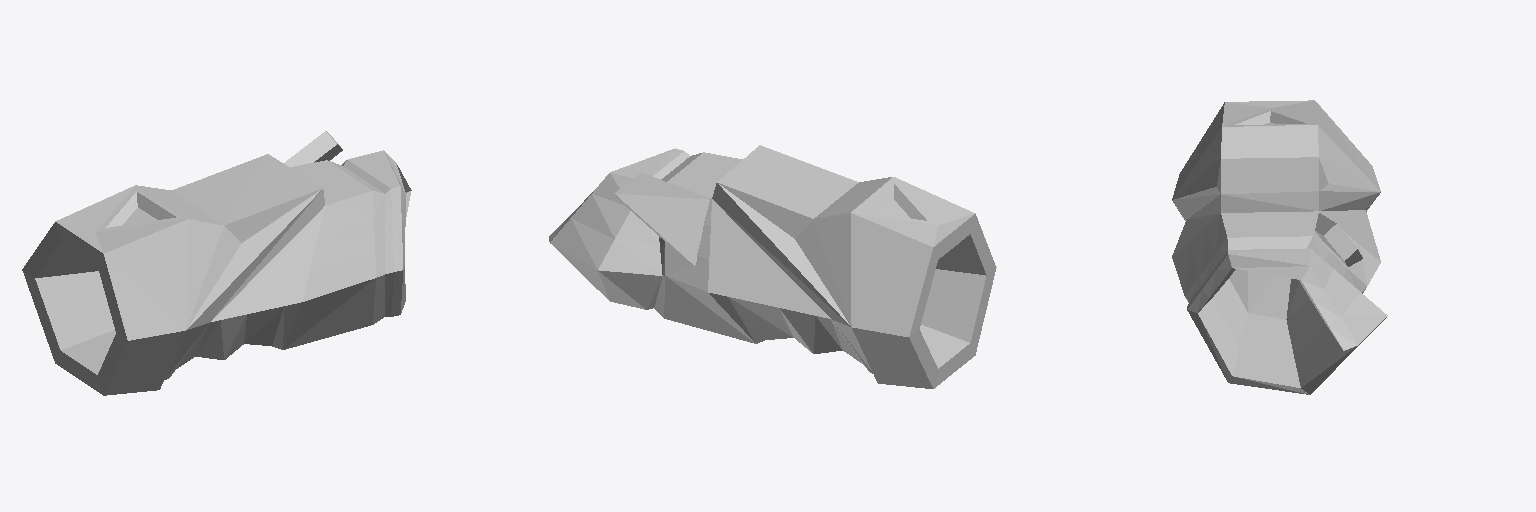
The model's file is hand armor right.obj.
The picture shows the model from 3 angles: view 1: azimuth 30°, elevation 25°; view 2: azimuth 150°, elevation 25°; view 3: azimuth 270°, elevation 25°; orthographic projection.
Visible parts, largest first — view 1: Circle.002_Circle.006; view 2: Circle.002_Circle.006; view 3: Circle.002_Circle.006.
Boxes of the visible parts, <box> form: Circle.002_Circle.006: <box>22,131,411,395</box>; Circle.002_Circle.006: <box>549,145,996,388</box>; Circle.002_Circle.006: <box>1172,100,1387,394</box>.
Bounding box in the file's own units: 0.6599 × 0.2753 × 0.3297.